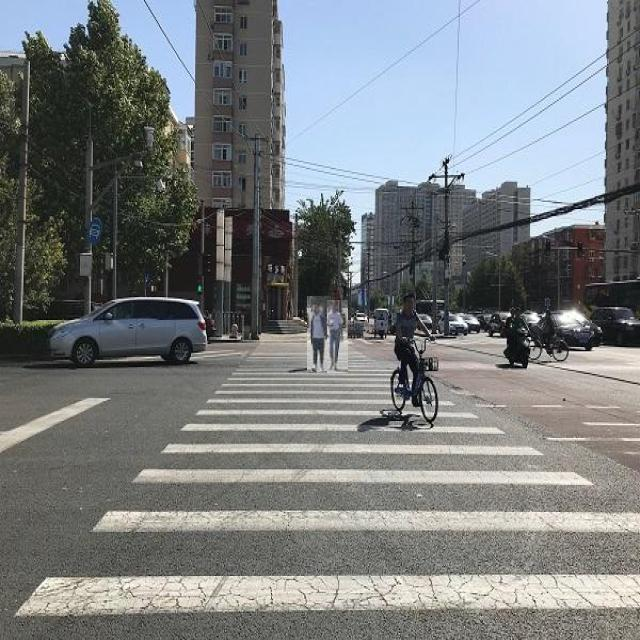without scooter: (307, 296, 331, 372), (328, 300, 348, 374)
